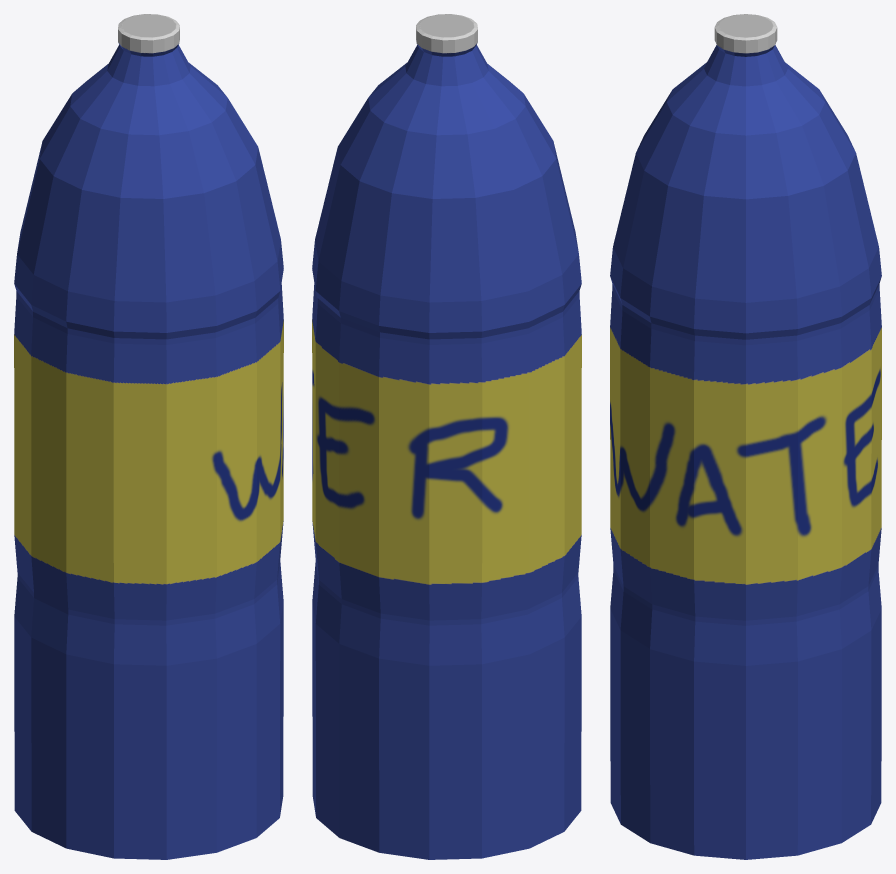
The model's file is Water.fbx.
The picture shows the model from 3 angles, left to right: view 1: azimuth 30°, elevation 25°; view 2: azimuth 150°, elevation 25°; view 3: azimuth 270°, elevation 25°; orthographic projection.
Visible parts, largest first — view 1: Circle; view 2: Circle; view 3: Circle.
Boxes of the visible parts, <box> form: Circle: <box>14,14,283,859</box>; Circle: <box>312,14,581,859</box>; Circle: <box>610,14,881,859</box>.
Size of the model in its own units: 36.36 by 115 by 36.36.
